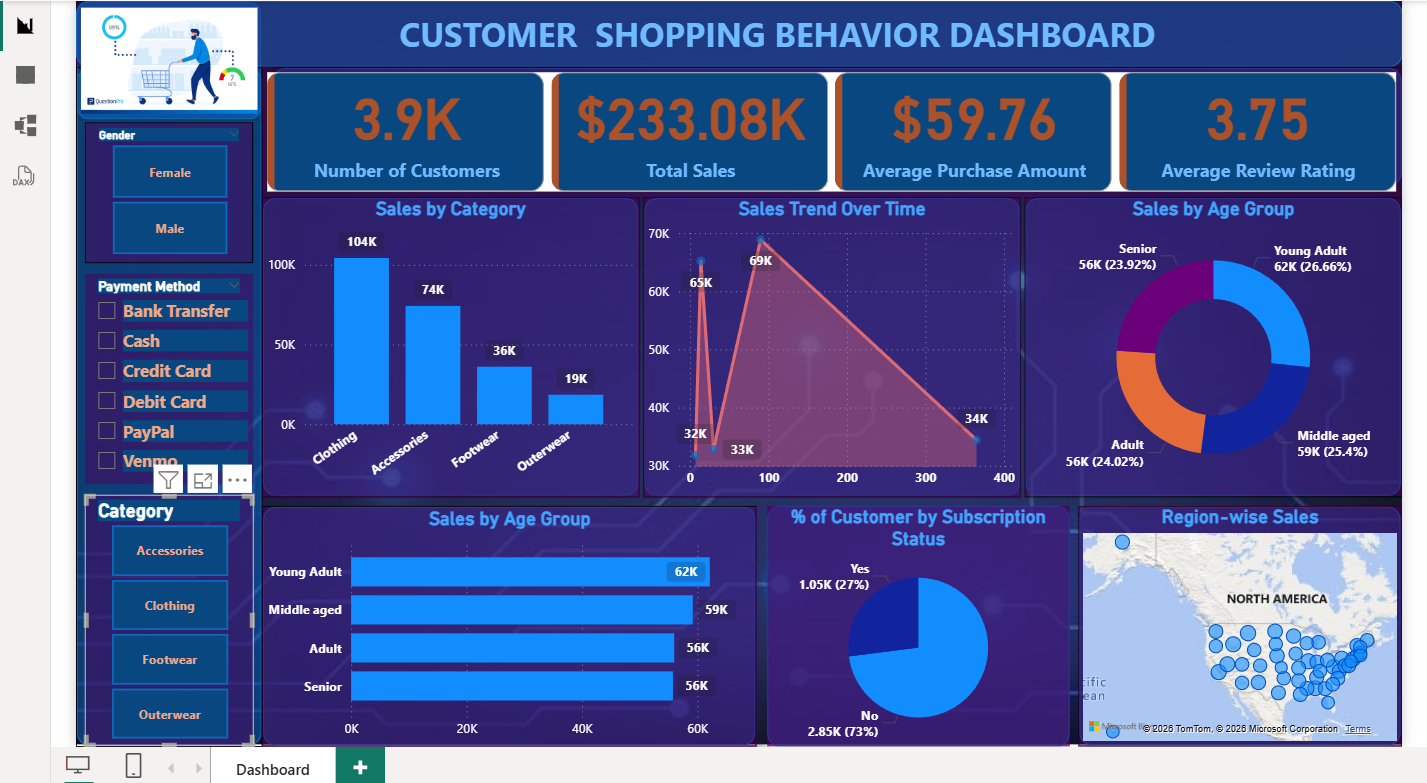

Layout of this report page (visuals, bound fields, positions):
{"tool":"powerbi","page":{"name":"Dashboard","canvas":[1280,720],"ordinal":0},"visuals":[{"type":"shape","box":[0,0,180.2,115.5],"z":0},{"type":"shape","box":[0,0,1280.3,63.4],"z":1000},{"type":"shape","box":[0,63.4,180.2,656],"z":2000},{"type":"shape","box":[189.1,63.4,1091.2,115.5],"z":3000},{"type":"cardVisual","fields":{"Data":["public customer.Number of Customers","public customer.Total Sales","public customer.Average Purchase Amount","public customer.Average Review Rating"]},"box":[180.2,63.4,1100.1,125.6],"z":4000},{"type":"shape","box":[180.2,189.1,364.2,289.3],"z":5000},{"type":"shape","box":[548.1,189.1,364.2,289.3],"z":6000},{"type":"shape","box":[968.1,487.2,312.1,232.2],"z":7000},{"type":"shape","box":[916.1,189.1,364.2,289.3],"z":8000},{"type":"shape","box":[180.2,487.2,477.1,232.2],"z":9000},{"type":"clusteredColumnChart","title":"Sales by Category","fields":{"Category":["public customer.category"],"Y":["public customer.Total Sales"]},"box":[180.2,189.1,364.2,289.3],"z":10000},{"type":"lineChart","title":"Sales Trend Over Time","fields":{"Y":["public customer.Total Sales"],"Category":["public customer.purchase_frequency_days"]},"box":[548.1,189.1,364.2,289.3],"z":11000},{"type":"donutChart","title":"Sales by Age Group","fields":{"Category":["public customer.age_group"],"Y":["public customer.Total Sales"]},"box":[915.7,189.4,364.3,288.3],"z":12000},{"type":"map","title":"Region-wise Sales","fields":{"Category":["public customer.location"],"Size":["public customer.Total Sales"]},"box":[968.1,487.2,312.1,232.2],"z":13000},{"type":"clusteredBarChart","title":"Sales by Age Group","fields":{"Y":["public customer.Total Sales"],"Category":["public customer.age_group"]},"box":[179.8,488.6,477.8,231.6],"z":14000},{"type":"shape","box":[667.4,487.2,291.8,232.2],"z":15000},{"type":"pieChart","title":"% of Customer by Subscription Status","fields":{"Category":["public customer.subscription_status"],"Y":["CountNonNull(public customer.customer_id)"]},"box":[667.4,487.2,291.8,232.2],"z":16000},{"type":"slicer","fields":{"Values":["public customer.gender"]},"box":[8.9,116.7,162.4,135.8],"z":17000},{"type":"slicer","fields":{"Values":["public customer.payment_method"]},"box":[8.9,262.6,162.4,203],"z":18000},{"type":"slicer","fields":{"Values":["public customer.category"]},"box":[8.9,477.1,162.4,242.3],"z":19000},{"type":"textbox","box":[280.4,5.1,794.3,53.3],"z":20000},{"type":"image","box":[0,0,180.2,115.5],"z":21000}]}

Visuals, with their boxes in screenshot pixels (x1, y1, x2, y2):
shape: [x1=71, y1=0, x2=257, y2=116]
shape: [x1=71, y1=0, x2=1397, y2=62]
shape: [x1=71, y1=62, x2=257, y2=742]
shape: [x1=267, y1=62, x2=1397, y2=182]
cardVisual - public customer.Number of Customers x public customer.Total Sales: [x1=257, y1=62, x2=1397, y2=192]
shape: [x1=257, y1=192, x2=635, y2=492]
shape: [x1=638, y1=192, x2=1016, y2=492]
shape: [x1=1073, y1=501, x2=1397, y2=742]
shape: [x1=1020, y1=192, x2=1397, y2=492]
shape: [x1=257, y1=501, x2=752, y2=742]
"Sales by Category" clusteredColumnChart: [x1=257, y1=192, x2=635, y2=492]
"Sales Trend Over Time" lineChart: [x1=638, y1=192, x2=1016, y2=492]
"Sales by Age Group" donutChart: [x1=1019, y1=192, x2=1397, y2=491]
"Region-wise Sales" map: [x1=1073, y1=501, x2=1397, y2=742]
"Sales by Age Group" clusteredBarChart: [x1=257, y1=502, x2=752, y2=742]
shape: [x1=762, y1=501, x2=1064, y2=742]
"% of Customer by Subscription Status" pieChart: [x1=762, y1=501, x2=1064, y2=742]
slicer - public customer.gender: [x1=80, y1=117, x2=248, y2=258]
slicer - public customer.payment_method: [x1=80, y1=268, x2=248, y2=479]
slicer - public customer.category: [x1=80, y1=491, x2=248, y2=742]
textbox: [x1=361, y1=2, x2=1184, y2=57]
image: [x1=71, y1=0, x2=257, y2=116]
